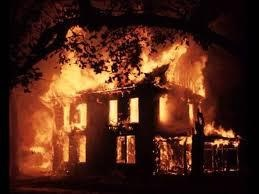fire: (114, 133, 136, 160)
